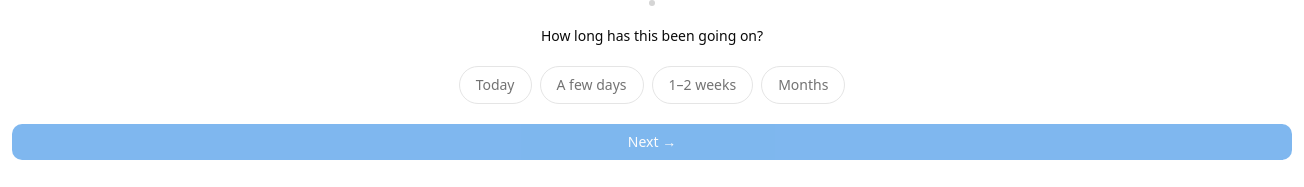
Test: IntakeConversation › advances to next question after answering chips
Click the button "Today": (495,85) [459,66,532,104]
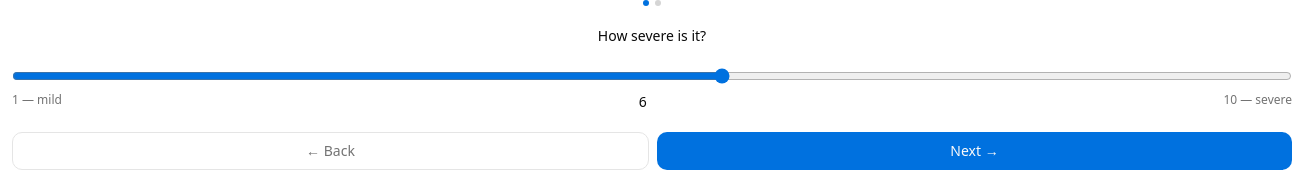
Now the text "How severe is it?" is shown, box [598,26,706,45]
